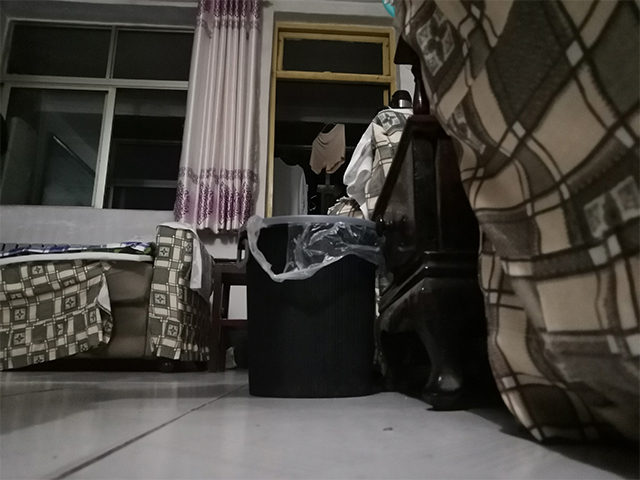curtain: (195, 1, 255, 238)
sofa: (1, 219, 217, 374)
trashcan: (234, 212, 384, 400)
